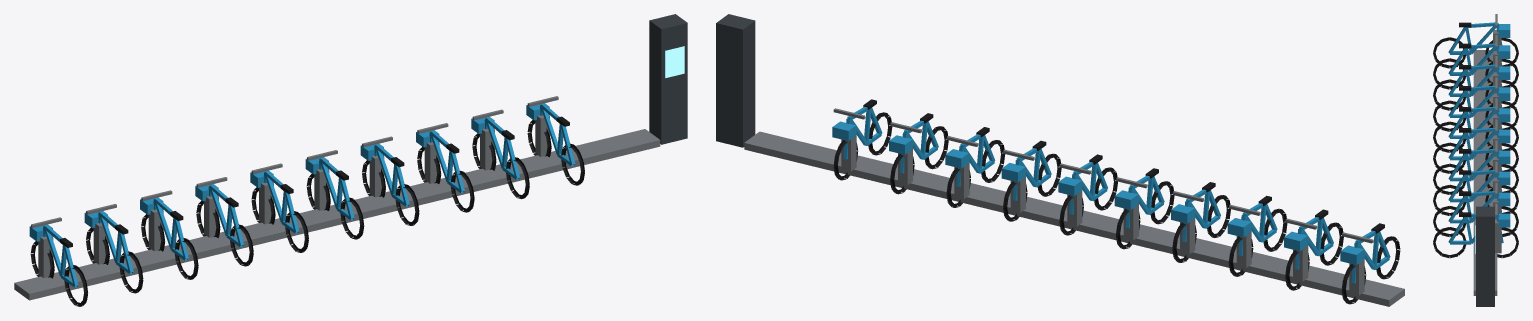
File: bike_share_rack.glb
3 renders of one model, left to right at view 1: azimuth 30°, elevation 25°; view 2: azimuth 150°, elevation 25°; view 3: azimuth 270°, elevation 25°, orthographic. The views are drawn at different scales.
Parts seen in each view (by area): view 1: bike_share_rack; view 2: bike_share_rack; view 3: bike_share_rack.
Boxes of the visible parts, x1=… form: bike_share_rack: x1=14, y1=14, x2=687, y2=306; bike_share_rack: x1=716, y1=14, x2=1404, y2=306; bike_share_rack: x1=1433, y1=14, x2=1518, y2=306.
Bounding box in the file's own units: 12.55 × 2.12 × 1.81.
Materials: 1 (1 with a texture image).
